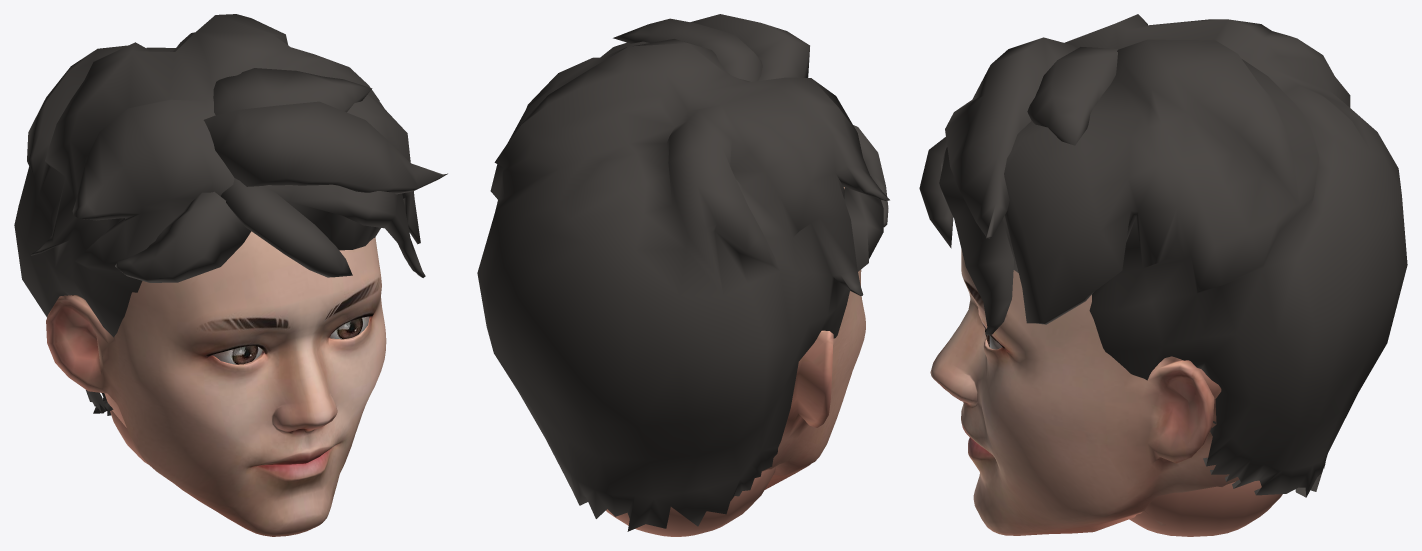
File: scott-head_old.glb
3 views of the same model, side by side, from view 1: azimuth 30°, elevation 25°; view 2: azimuth 150°, elevation 25°; view 3: azimuth 270°, elevation 25° (orthographic). The views are drawn at different scales.
Parts seen in each view (by area): view 1: Wolf3D_Head; view 2: Wolf3D_Head; view 3: Wolf3D_Head.
Part boxes in pixels (x1,y1,x2,y2): Wolf3D_Head: (14, 14, 447, 536); Wolf3D_Head: (477, 14, 889, 536); Wolf3D_Head: (919, 14, 1407, 536).
Size of the model in its own units: 0.2051 by 0.2552 by 0.2295.
4 materials, 4 textured.
